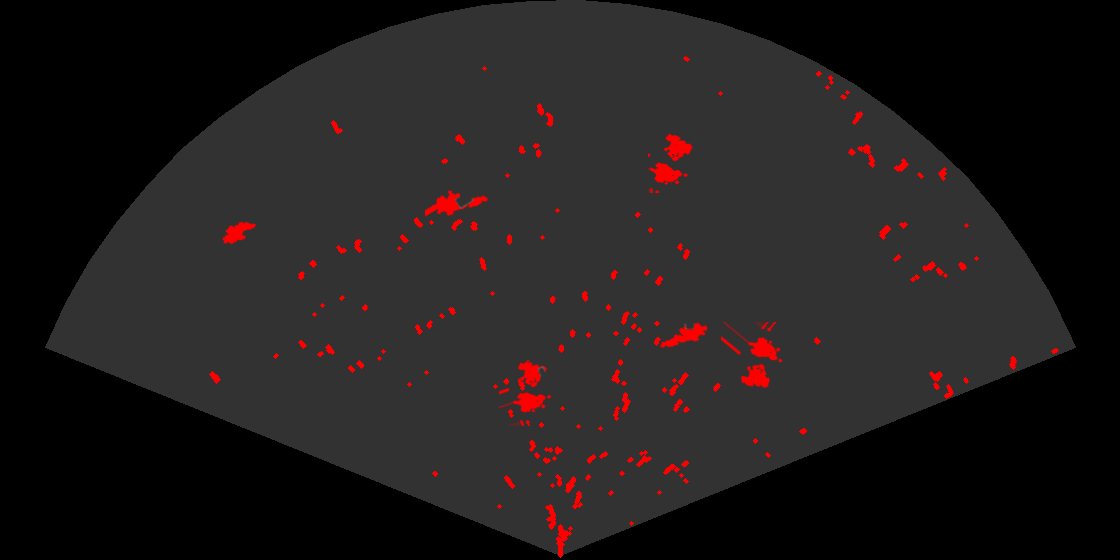AUV: (221, 220, 258, 246)
cage: (721, 322, 784, 390), (499, 360, 553, 426), (648, 132, 694, 193)
frogman: (425, 189, 490, 218), (659, 321, 707, 350)
